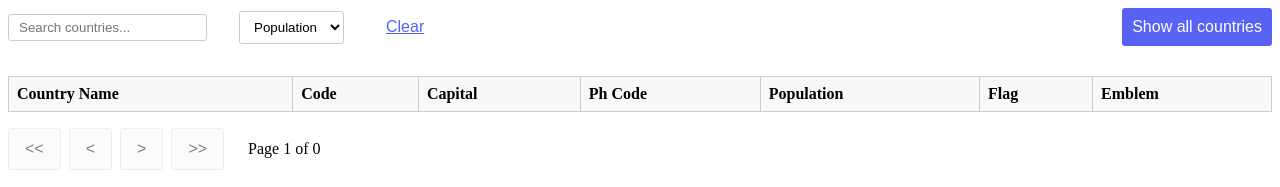
Test: CountryTable › should clear filters when clicking clear button
Type "India" into the field with placeholder "Search countries..." at (108, 27), box [8,14,207,40]
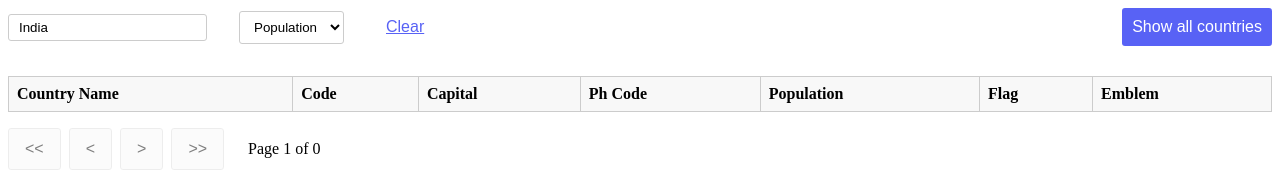
Select "<1M" in the dropdown at (292, 27), box [239,10,344,44]
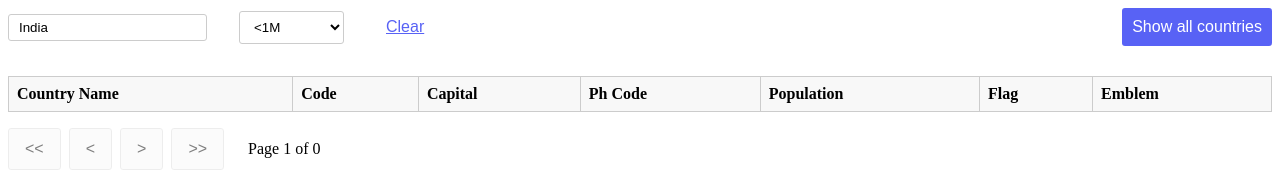
Click the button "Clear" at (405, 27), box [376,8,434,46]
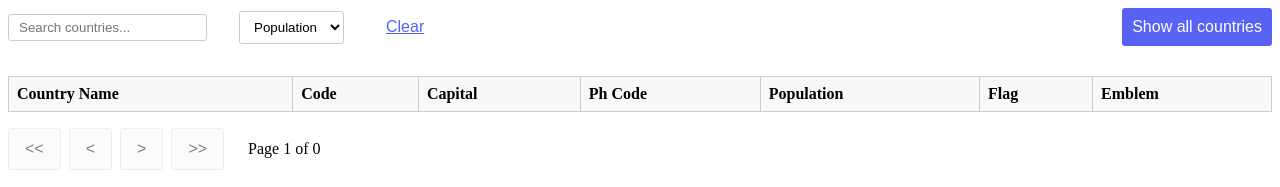
expect the field with placeholder "Search countries..." is empty: met, box [8,14,207,40]
